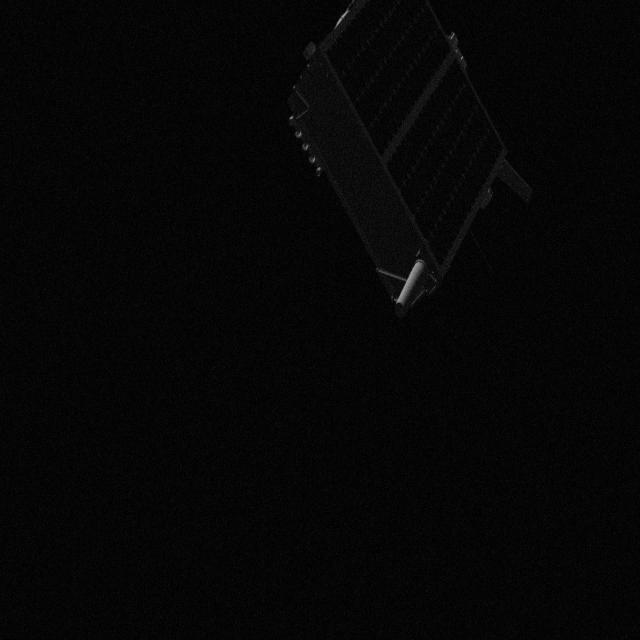medium_debris: (288, 8, 550, 312)
